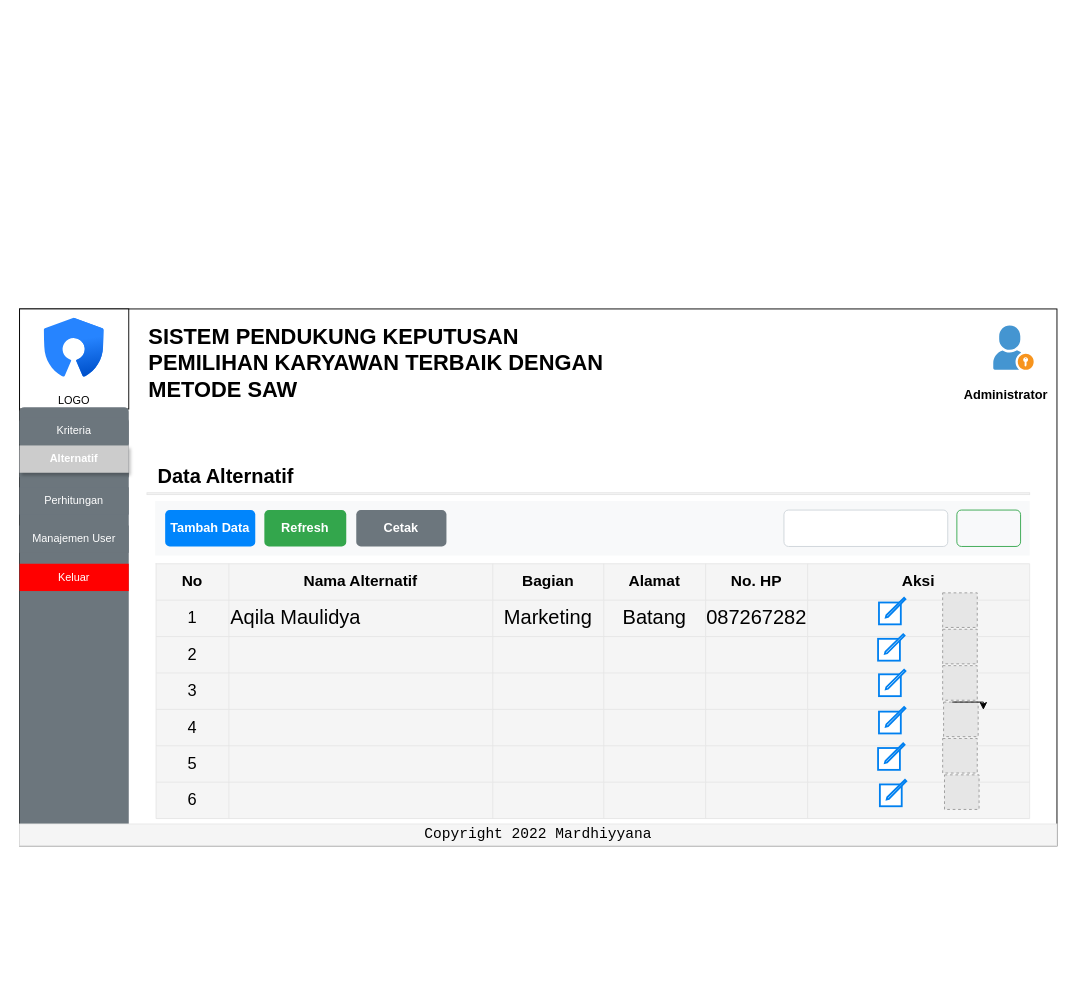
Some shapes in this 1073 by 1001 pixel diagram are drawn without their labels. Grey dashed boxes stand in for pictures. The centre of each missing label's shape, as x and y in pixels:
"Pencarian" goes at [865,527].
"Search" goes at [988,527].
